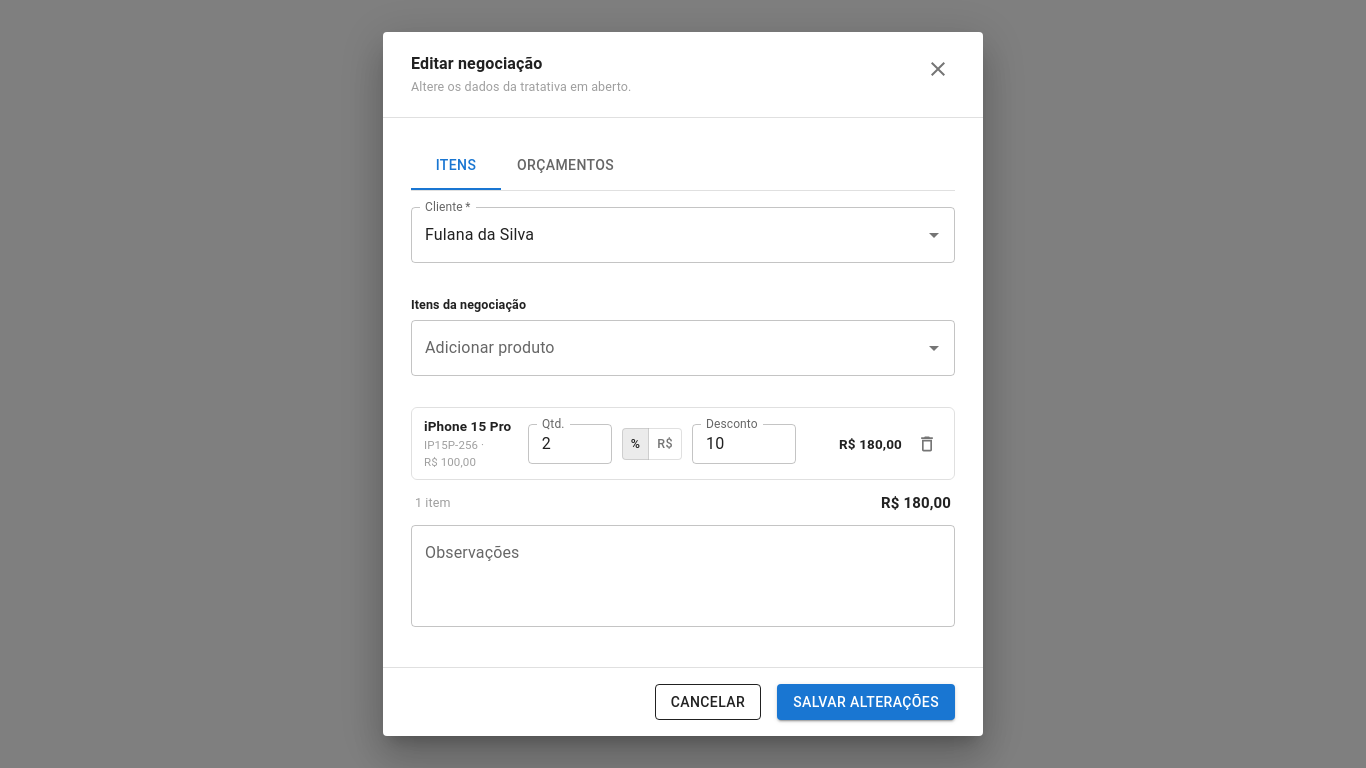
NegotiationFormModal — alçada de desconto (RI6, ticket 09) › VENDEDOR: a linha alterada acima de 15% mostra o erro e não é enviada
The width and height of the screenshot is (1366, 768).
Click the number field labelled "Desconto". click: point(744, 444)
box: [692,424,796,464]
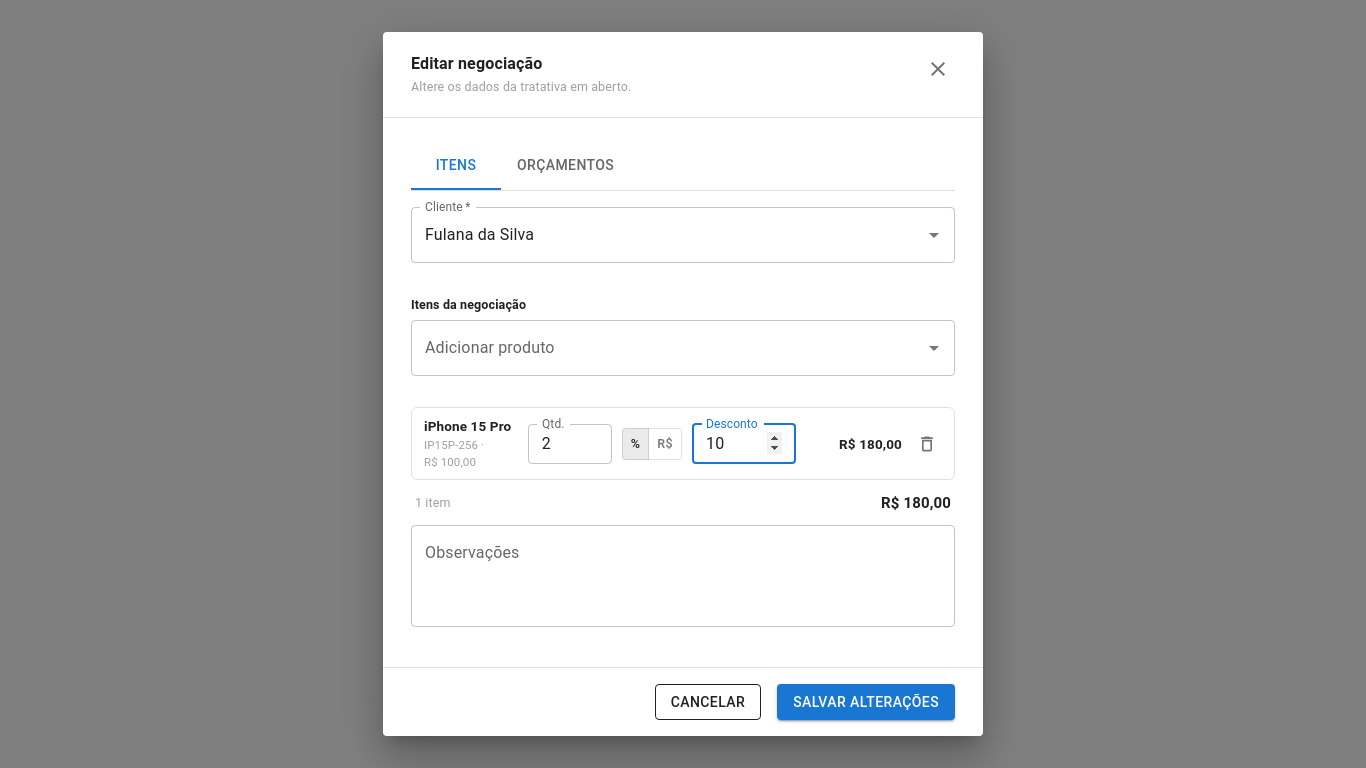
Type keys "20"
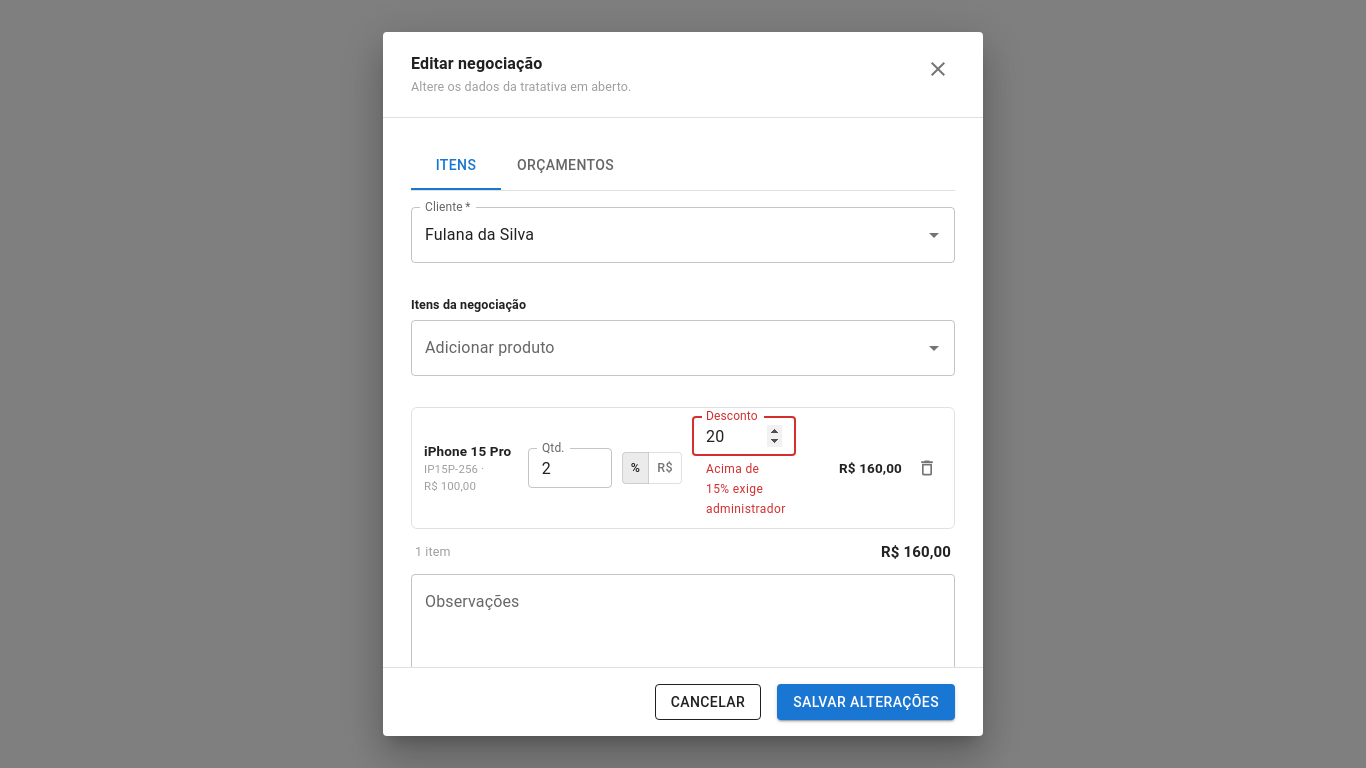
Result: the text "Acima de 15% exige administrador" is shown at [706,460,782,520]
Click the button "Salvar alterações". click: point(866, 702)
box: [777,684,955,720]
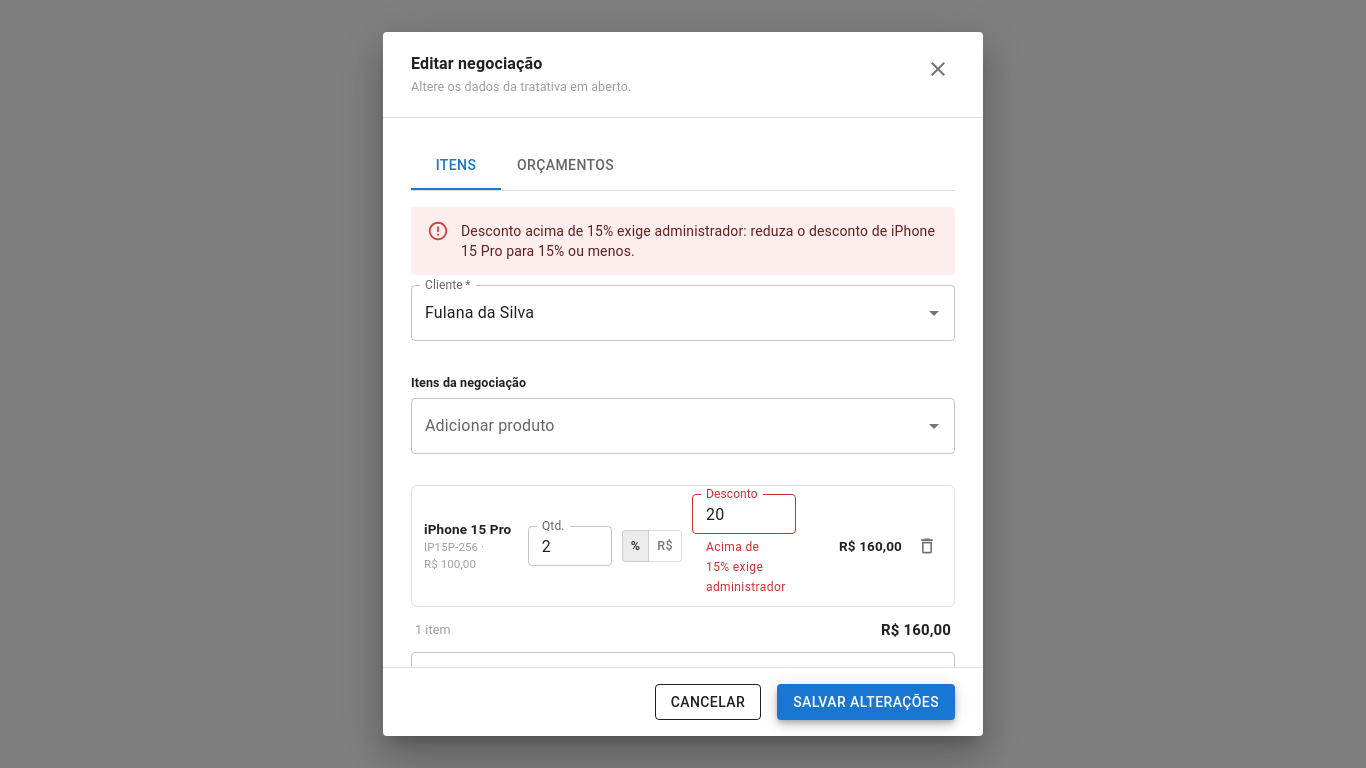
Result: the message shows "Desconto acima de 15% exige administrador" at [461,223,935,259]
